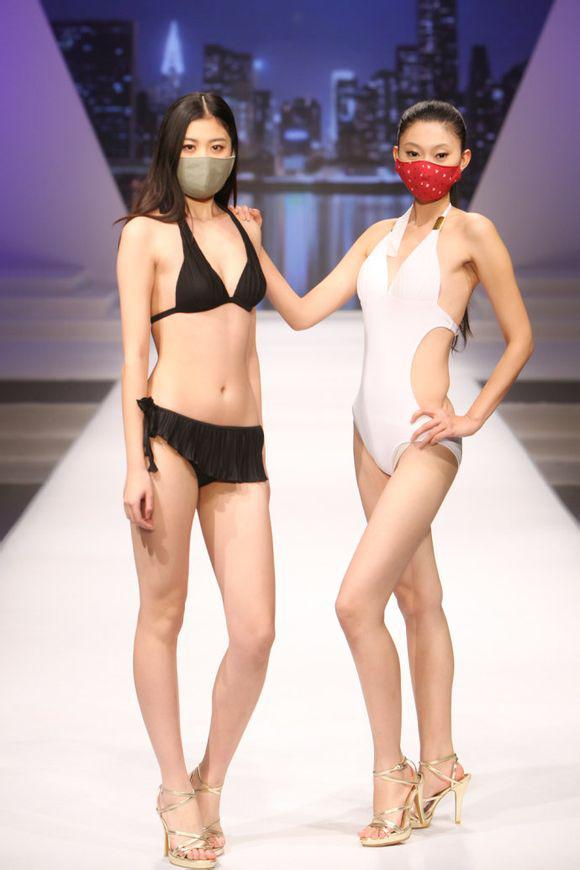OK: (168, 133, 238, 203), (400, 135, 462, 202)
